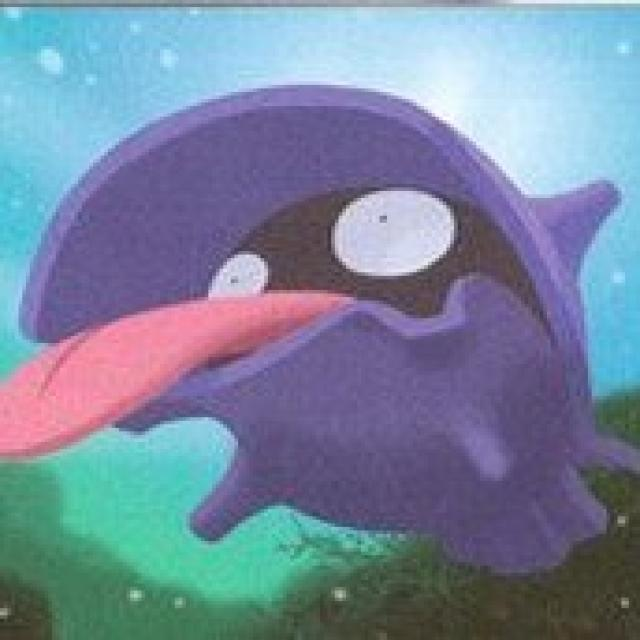Shellder: (16, 82, 601, 523)
